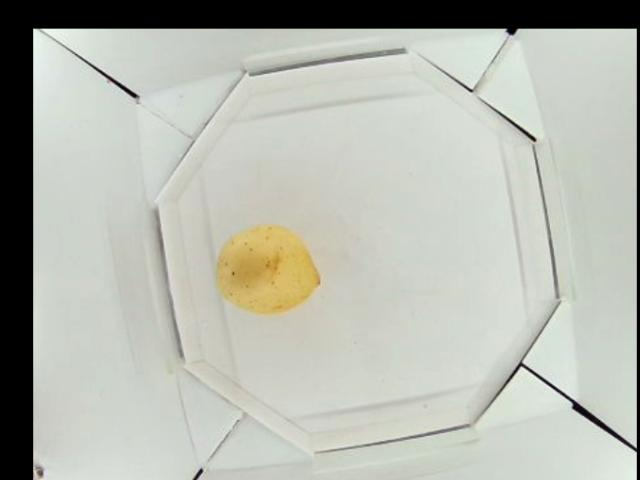Potato: (210, 221, 323, 314)
